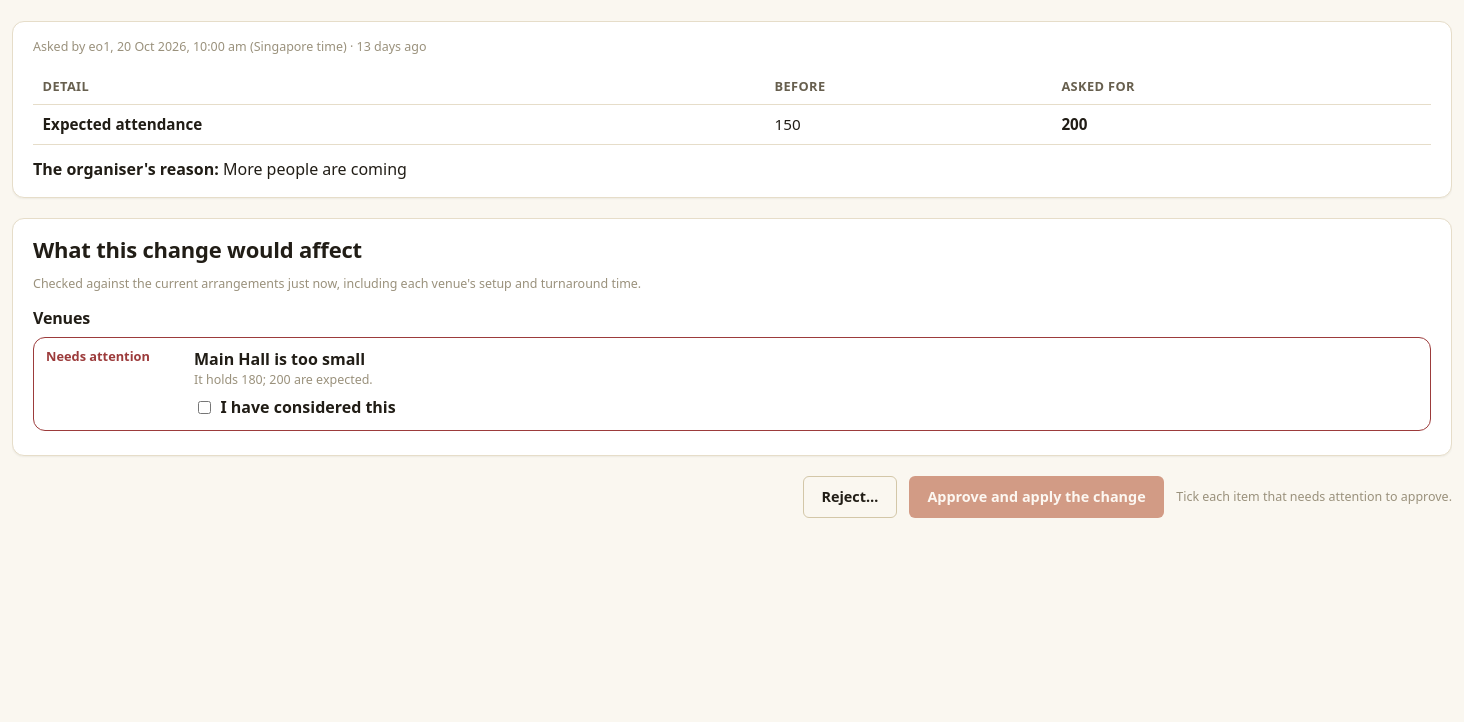
Test case: EC-NEW3 — the coordinator reviews and decides › EC-NEW3 AC7, AC29 (conflict): if the impact changed meanwhile, the latest is shown, the ticks are cleared and it says why
Click the checkbox labelled "I have considered this" at (204, 407), box [198,401,211,414]
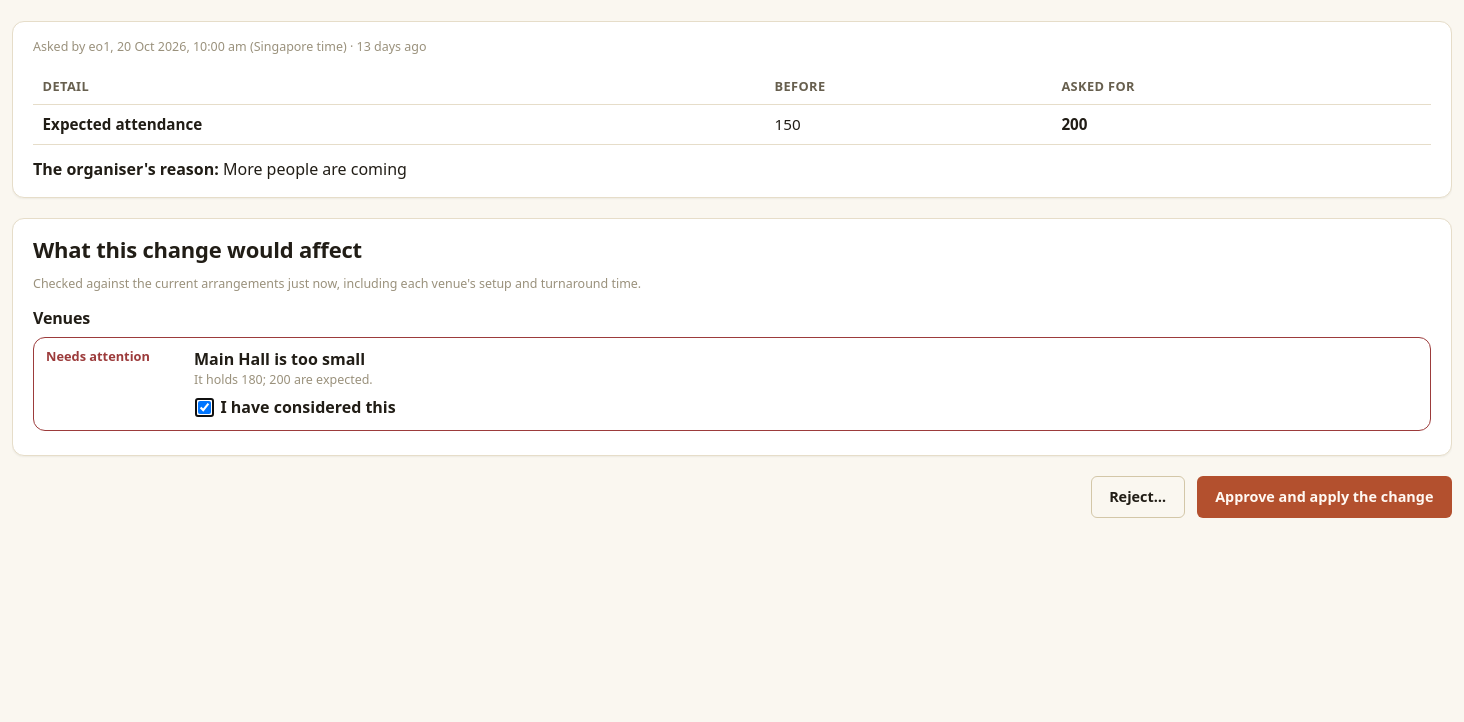
Click the button "Approve and apply the change" at (1324, 497), box [1197,476,1452,518]
(page scrolled)
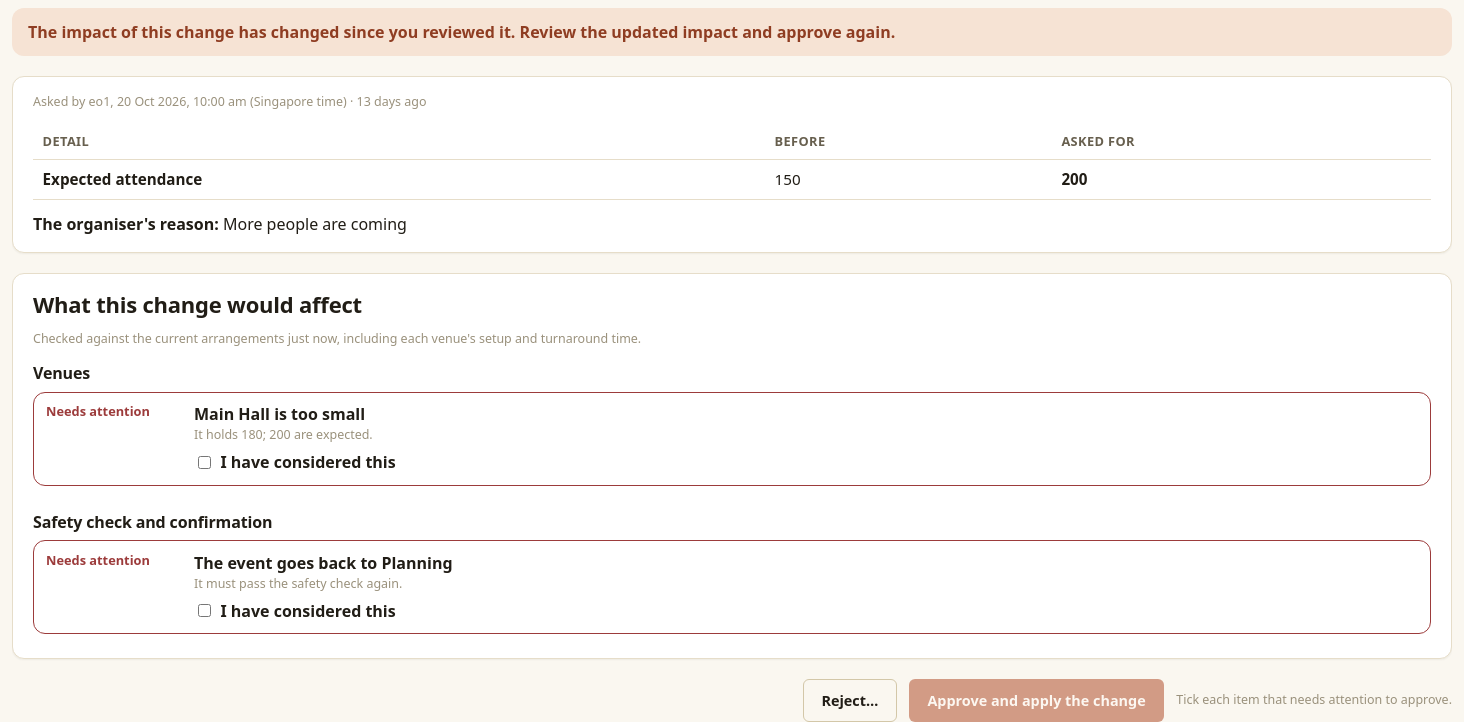
Expected: the text "has changed since you reviewed it" is shown, [28,21,895,43]
Expected: the text "The event goes back to Planning" is shown, [194,552,452,574]
Expected: the button "Approve and apply the change" is disabled, [909,679,1164,721]
